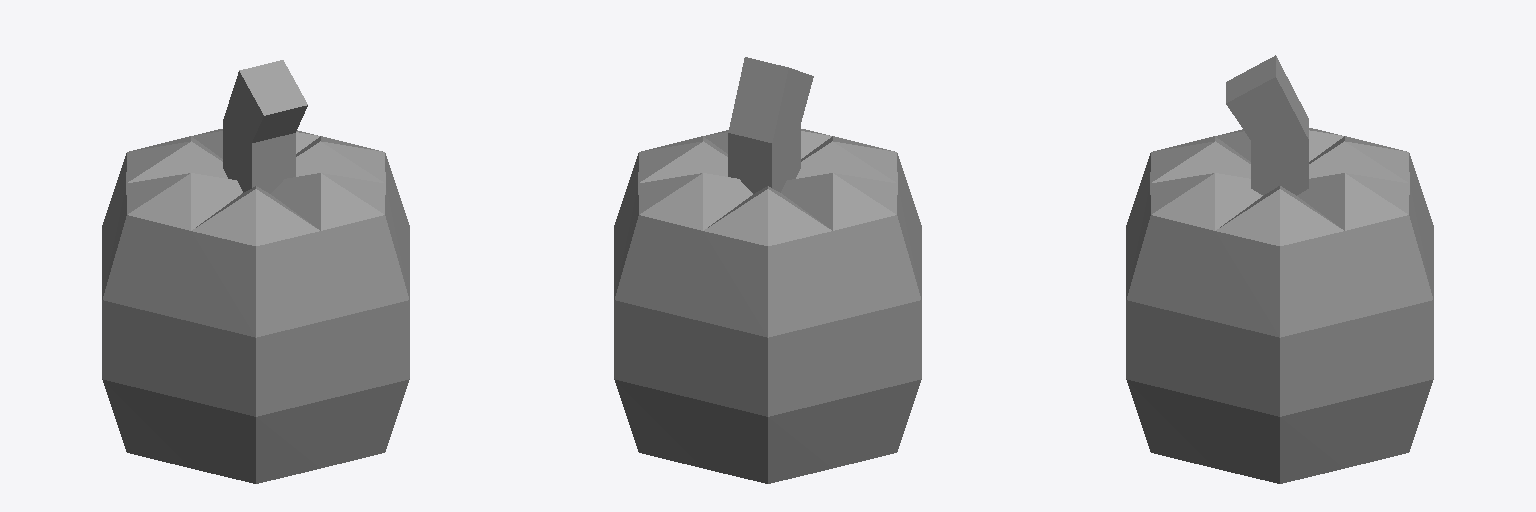
The model's file is pumpkin_02_01_b.obj.
3 views of the same model, side by side, from view 1: azimuth 30°, elevation 25°; view 2: azimuth 150°, elevation 25°; view 3: azimuth 270°, elevation 25° (orthographic).
Parts seen in each view (by area): view 1: pumpkin_02_01_b; view 2: pumpkin_02_01_b; view 3: pumpkin_02_01_b.
Part boxes in pixels (left/top/right/bottom): pumpkin_02_01_b: left=102, top=60, right=409, bottom=483; pumpkin_02_01_b: left=614, top=57, right=921, bottom=483; pumpkin_02_01_b: left=1126, top=55, right=1433, bottom=483.
Bounding box in the file's own units: 1.01 × 1.2 × 0.8751.